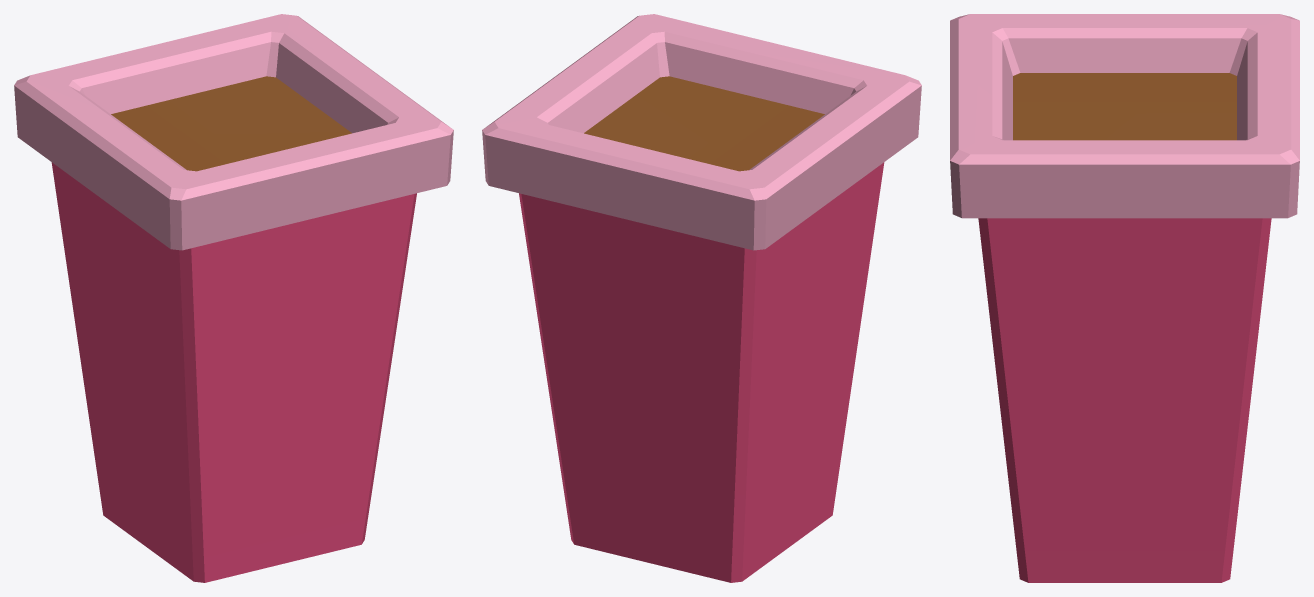
File: PlantPot_2_E.fbx
The picture shows the model from 3 angles, left to right: view 1: azimuth 30°, elevation 25°; view 2: azimuth 150°, elevation 25°; view 3: azimuth 270°, elevation 25°; orthographic projection. The views are drawn at different scales.
Parts seen in each view (by area): view 1: PlantPot_2_E; view 2: PlantPot_2_E; view 3: PlantPot_2_E.
Boxes of the visible parts, left/top/right/bottom form: PlantPot_2_E: left=14, top=14, right=453, bottom=582; PlantPot_2_E: left=482, top=14, right=921, bottom=582; PlantPot_2_E: left=950, top=14, right=1299, bottom=582.
Bounding box in the file's own units: 36.24 × 51.92 × 36.24.
